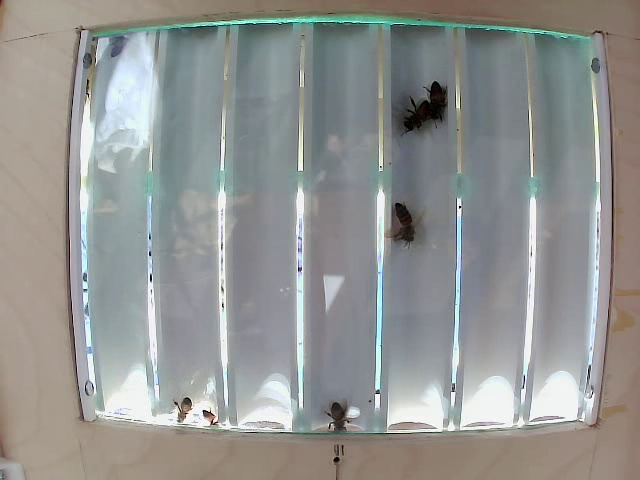bee: (377, 188, 430, 262), (421, 70, 460, 145), (398, 95, 431, 138)
